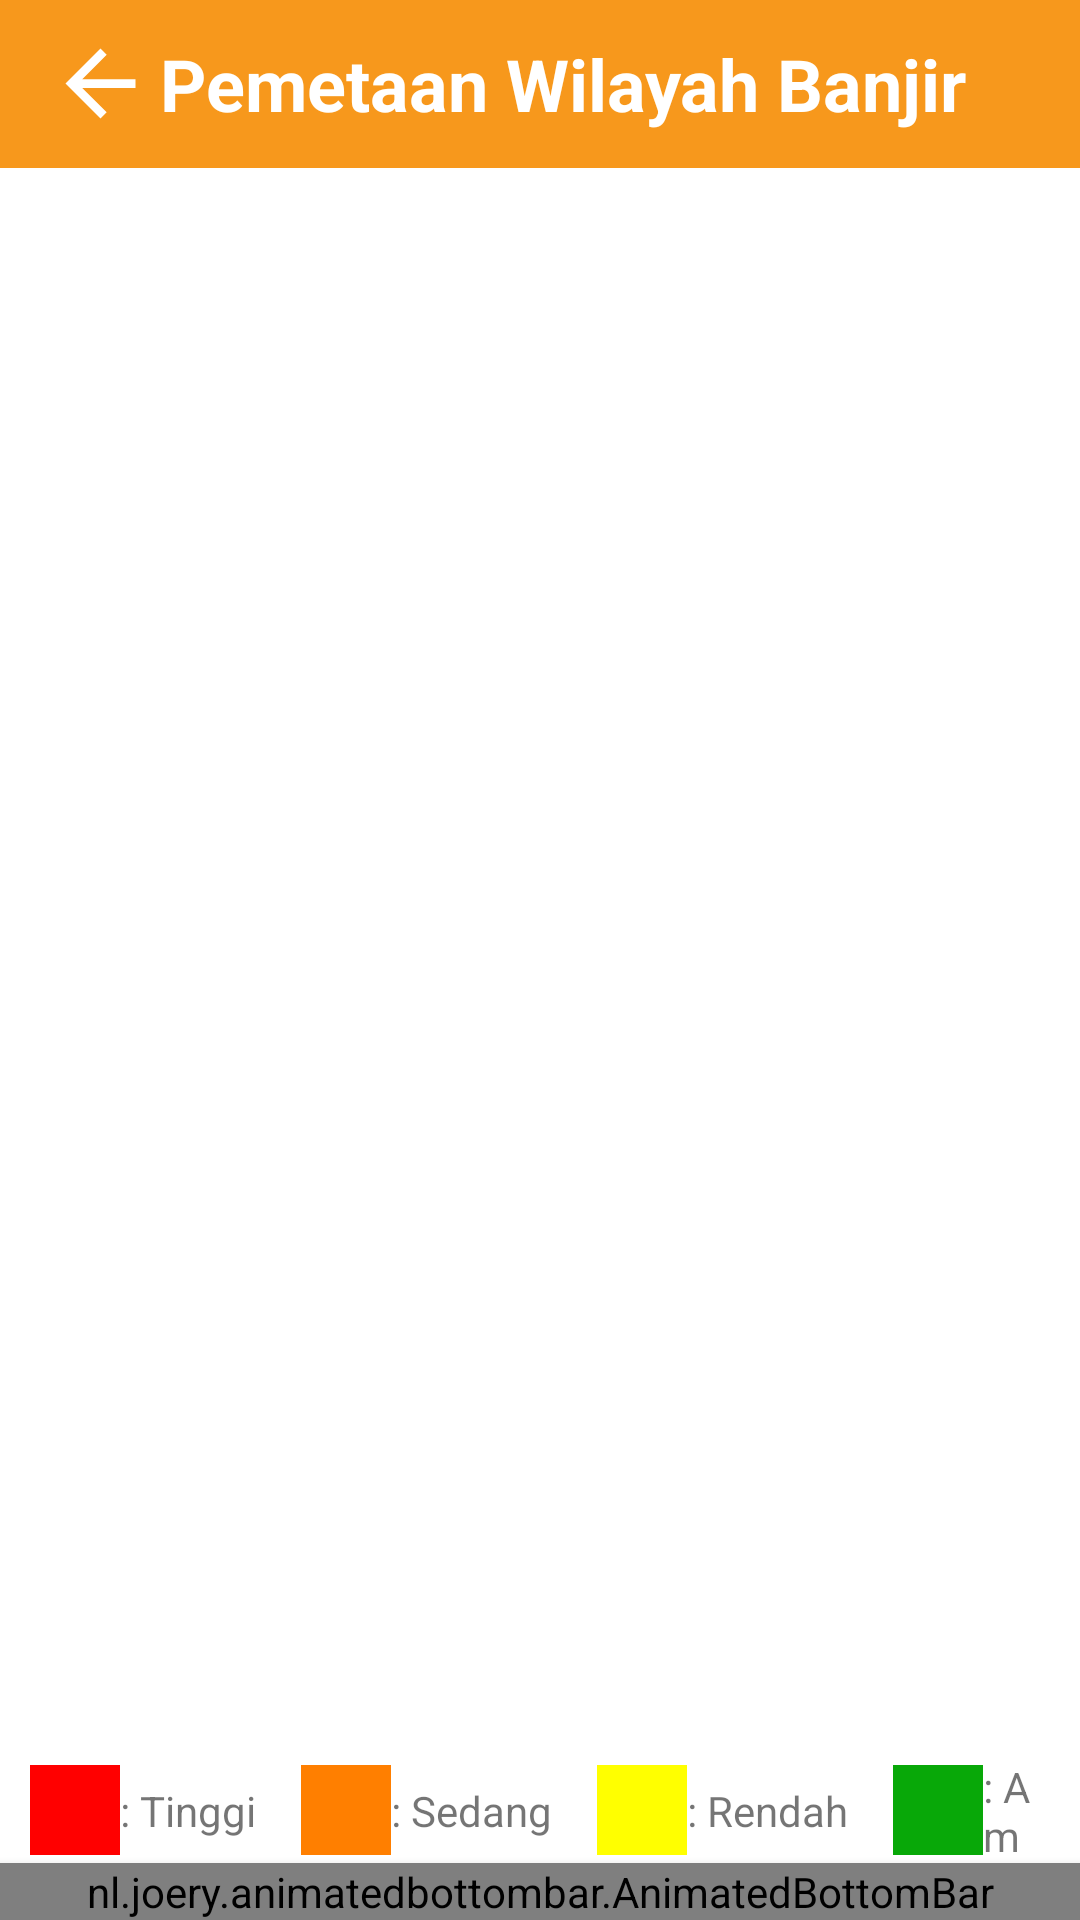

Named icons in this screenshot (1080w x 1920h) and their bounding boxes, Rect(x1, y1, x2, y2):
back: Rect(65, 48, 136, 119)
